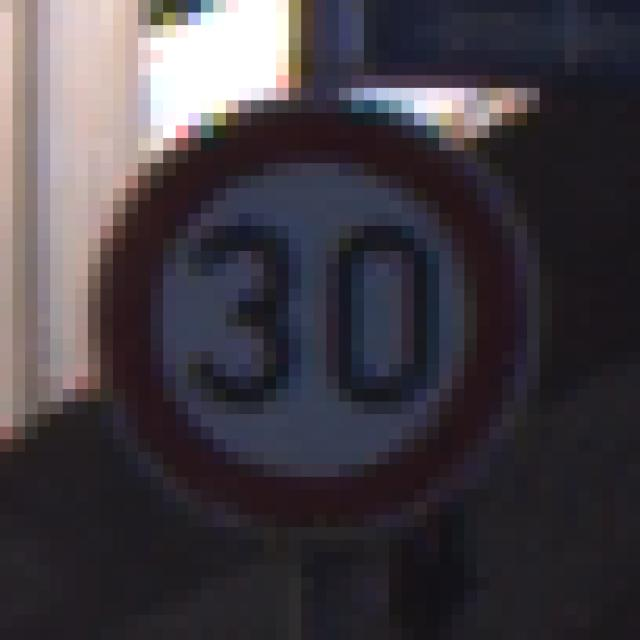Speed Limit -30-: (56, 56, 571, 571)
